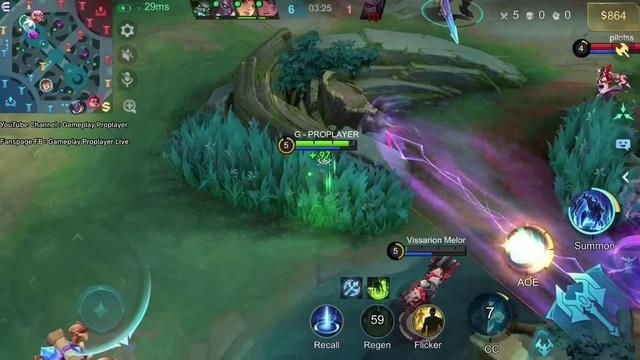Adc_Aliado: (68, 102, 81, 114)
Adc_Enemigo: (86, 95, 99, 107)
Arbusto: (164, 109, 413, 234), (548, 96, 635, 234)
Cangrejo_Oro: (34, 322, 91, 359)
Exp_Aliado: (24, 21, 36, 32)
HP_Aliado: (405, 247, 465, 252)
HP_Enemigo: (590, 44, 640, 50)
HP_Heroe_Principal: (296, 140, 358, 145)
Hechizo_Batalla: (412, 304, 443, 338)
Jungla_Aliado: (39, 79, 53, 92)
Mana: (590, 50, 640, 55), (295, 147, 357, 151), (405, 253, 467, 256)
Mid_Aliado: (17, 14, 30, 26)
Mid_Enemigo: (32, 9, 42, 22)
Minimapa: (0, 2, 114, 113)
Roamer_Aliado: (78, 100, 86, 113)
Skill2: (501, 225, 554, 273)
Skill3: (567, 187, 619, 234)
Terizla: (400, 256, 459, 308)
Tortuga_mapa: (27, 29, 41, 39)
Vale: (596, 64, 630, 95)
Vexana: (303, 165, 340, 231)
